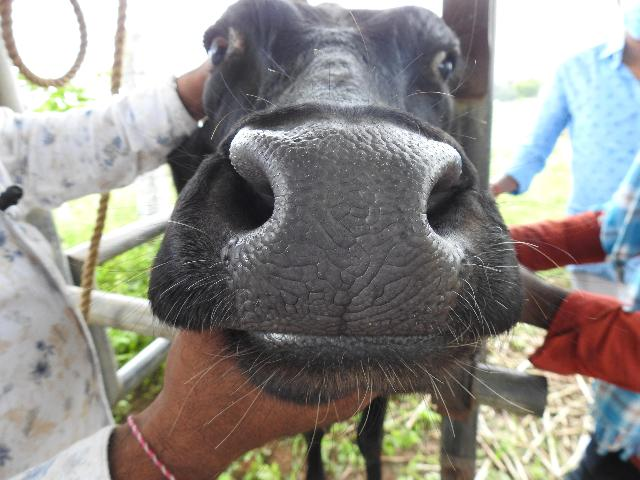Muzzle: (266, 131, 438, 335)
